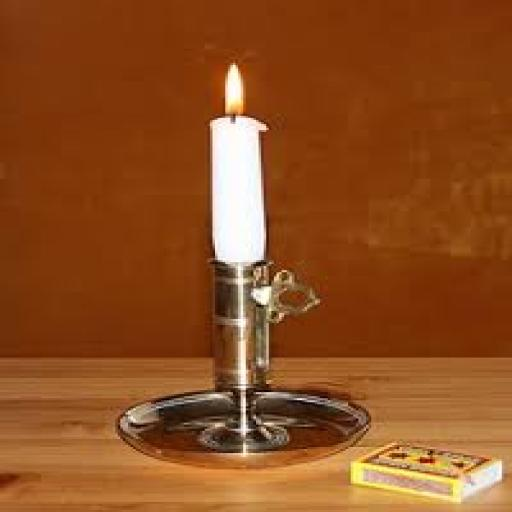fire: (189, 51, 279, 130)
